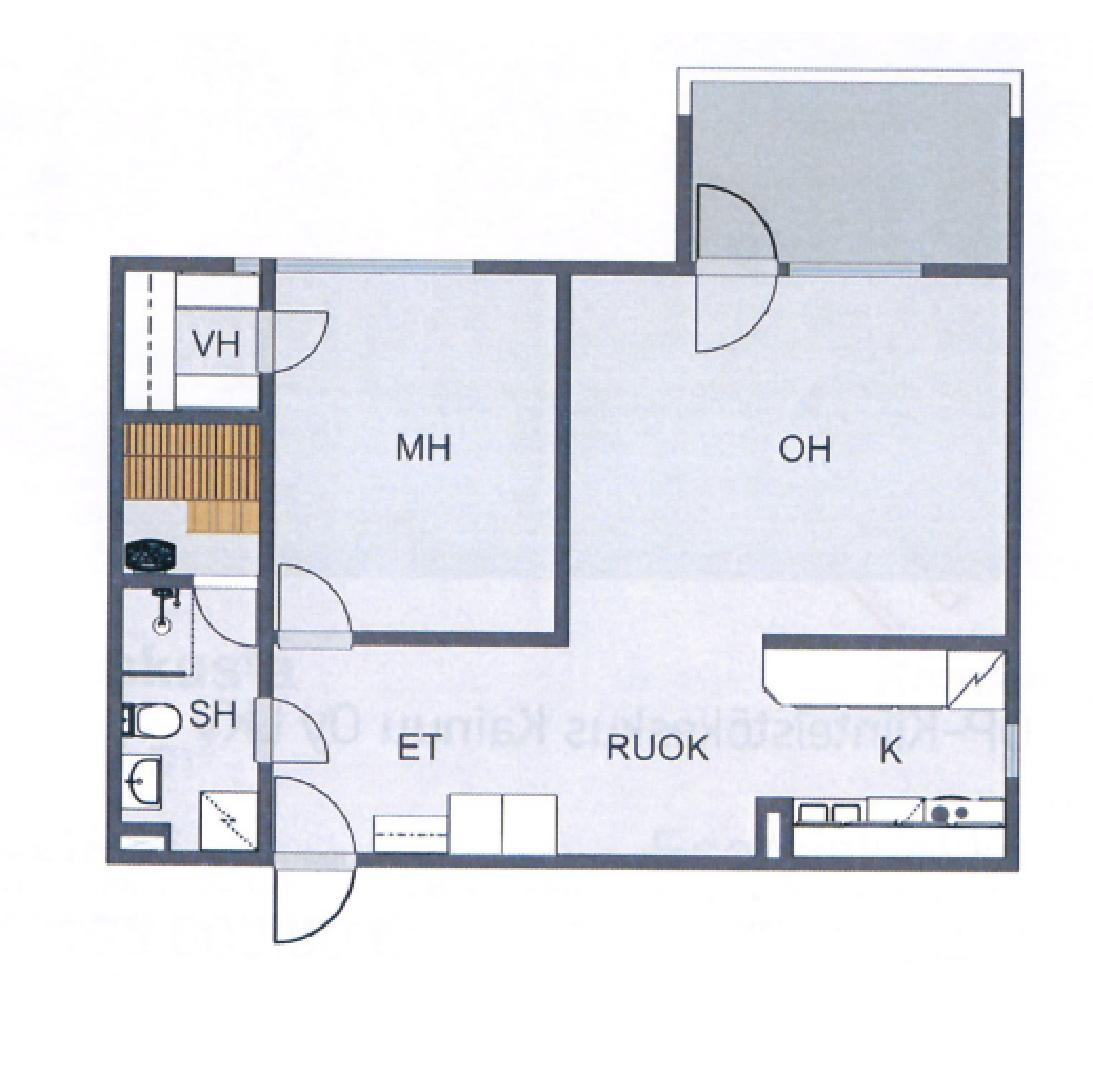door: (691, 182, 783, 355), (273, 776, 355, 948), (277, 561, 354, 658), (250, 696, 341, 772), (250, 308, 337, 378), (191, 572, 261, 653)
window: (231, 254, 474, 283), (791, 259, 923, 281)
zone: (270, 265, 1006, 855), (275, 273, 556, 632), (695, 82, 1011, 261), (123, 589, 260, 850), (123, 422, 261, 573), (124, 264, 255, 405)
